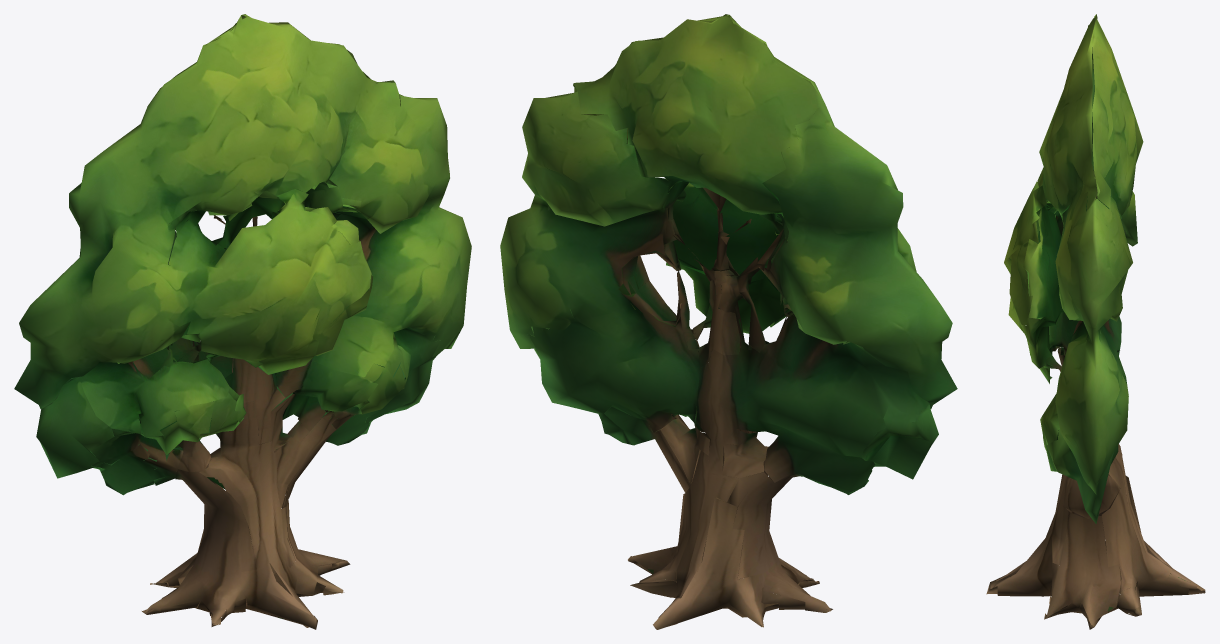
3 views of the same model, side by side, from view 1: azimuth 30°, elevation 25°; view 2: azimuth 150°, elevation 25°; view 3: azimuth 270°, elevation 25° (orthographic).
Visible parts, largest first — view 1: quad; view 2: quad; view 3: quad.
Boxes of the visible parts, x1,y1,x2,y2 form: quad: (14, 14, 471, 629); quad: (500, 14, 957, 629); quad: (986, 14, 1205, 629).
Size of the model in its own units: 656 by 800 by 276.
Materials: 1 (1 with a texture image).
